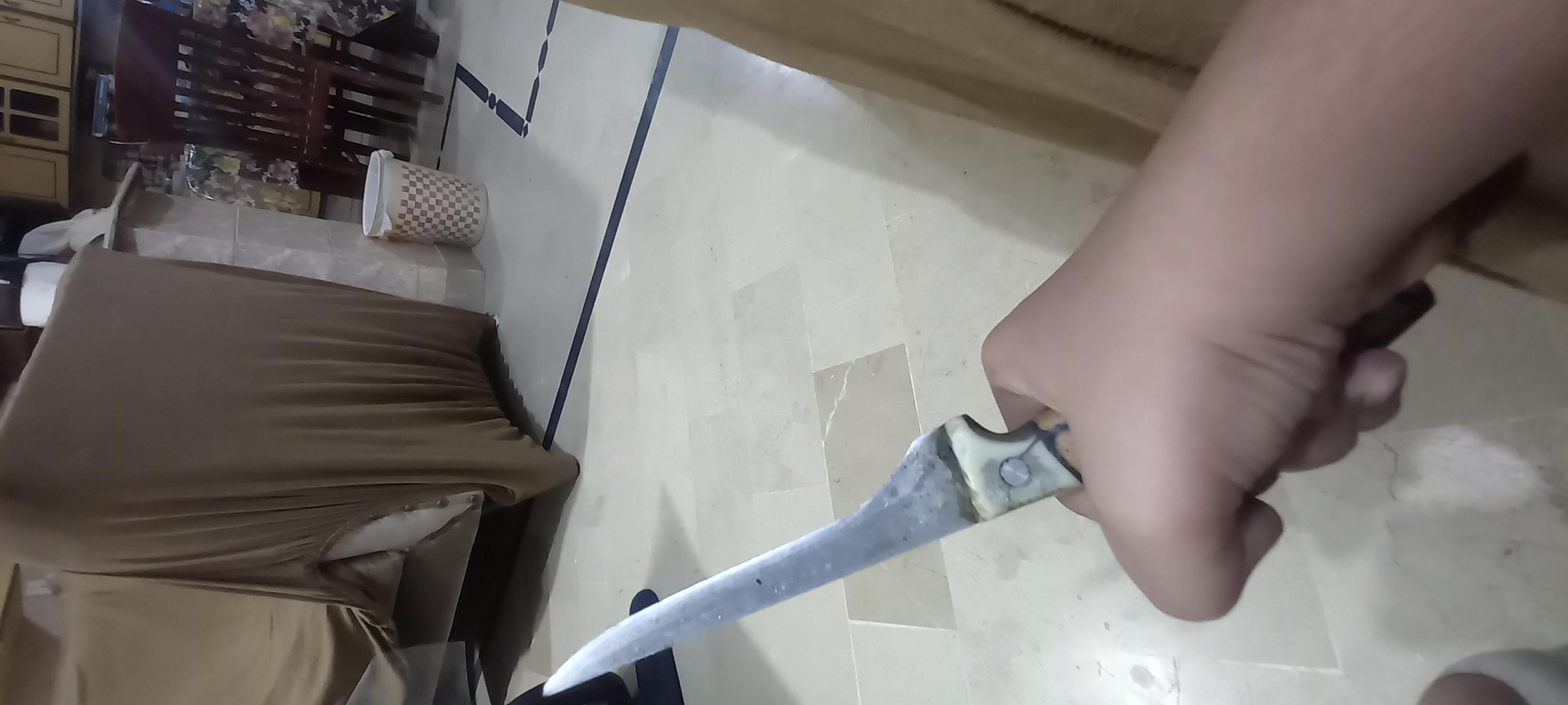knives: (21, 238, 906, 641)
